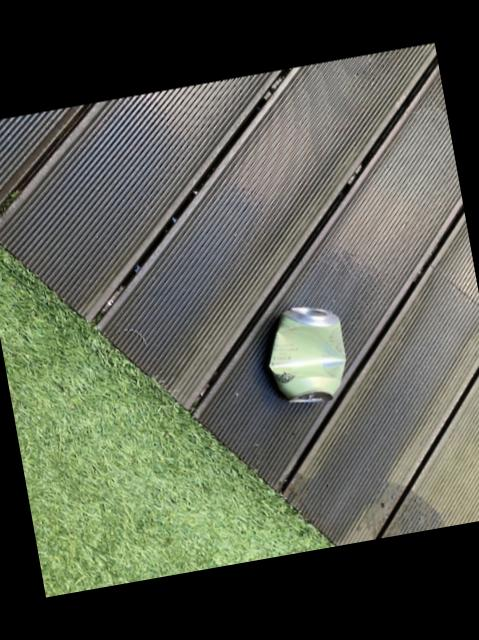metal: (270, 308, 346, 403)
